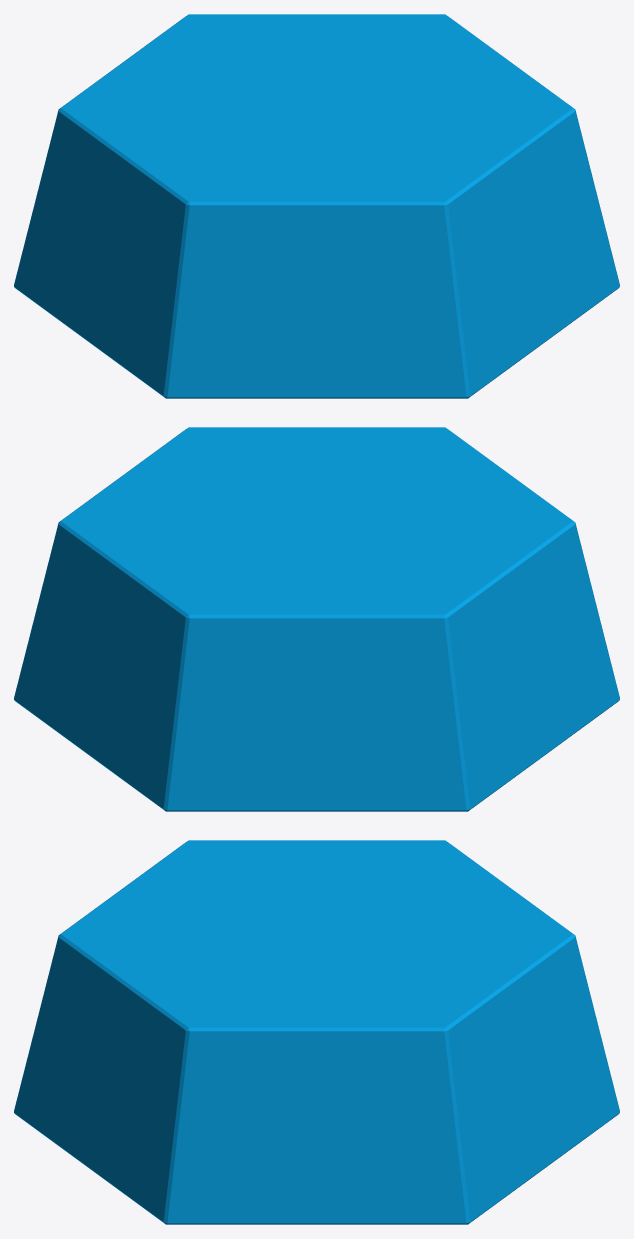
File: Rack.fbx
The picture shows the model from 3 angles, top to bottom: view 1: azimuth 30°, elevation 25°; view 2: azimuth 150°, elevation 25°; view 3: azimuth 270°, elevation 25°; orthographic projection.
Parts seen in each view (by area): view 1: Cylinder; view 2: Cylinder; view 3: Cylinder.
Part boxes in pixels (x1,y1,x2,y2): Cylinder: (14,14,619,398); Cylinder: (14,427,619,811); Cylinder: (14,840,619,1224).
Bounding box in the file's own units: 1.73 × 0.6518 × 1.99.
